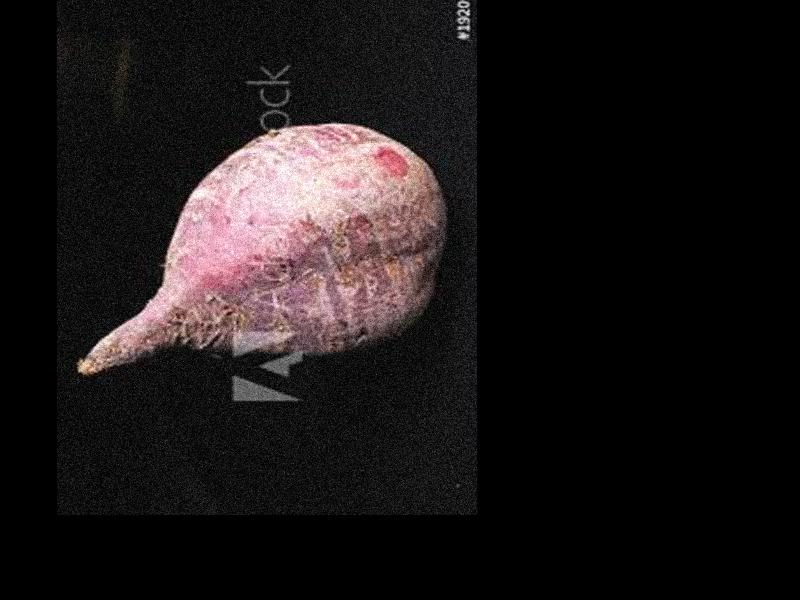Beet: (77, 121, 443, 372)
